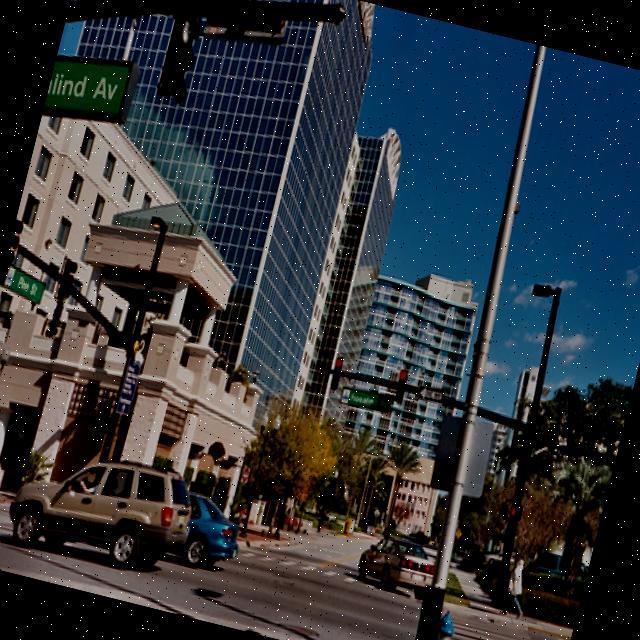fire_hydrant: (425, 607, 466, 640)
